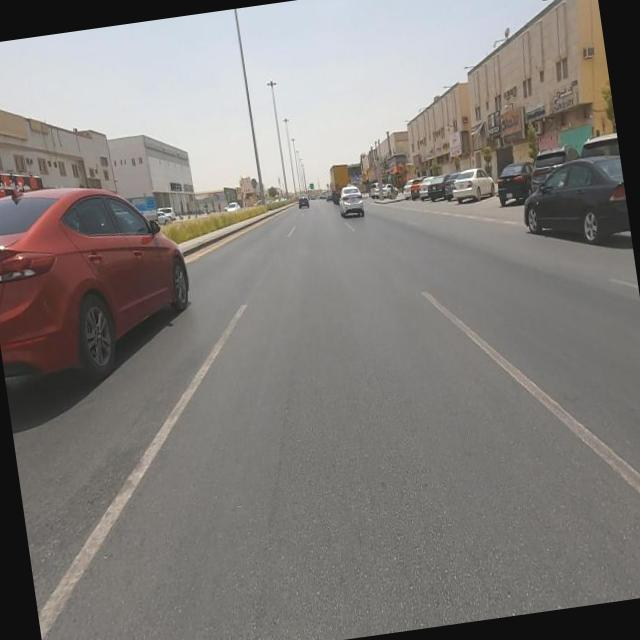debris: (450, 94, 505, 178)
